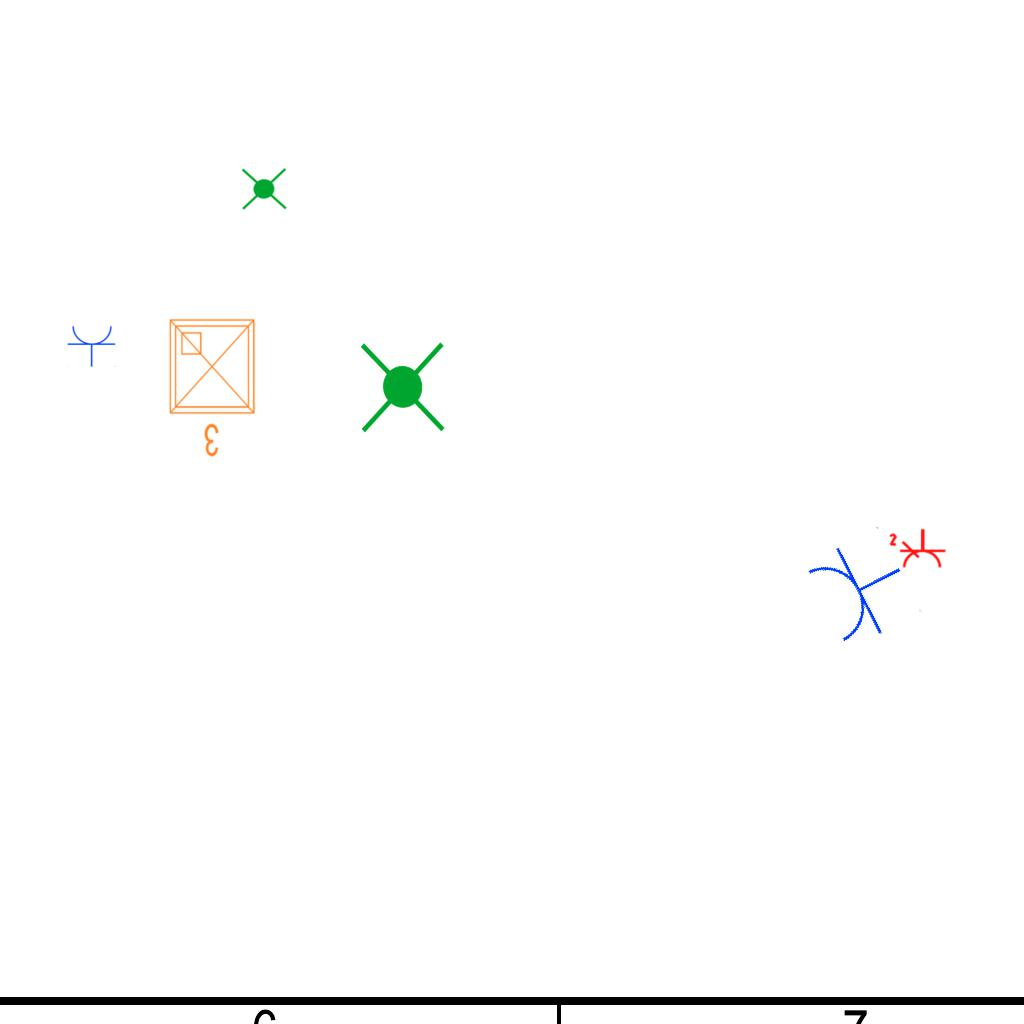Einbaudownlights_LED_Konferenzraeume: (162, 312, 266, 462)
Notlichtbaustein_in_Allgemeinbeleuchtug_engebaut_Einbau_(1UG_und_2UG_Aufbauvaria: (350, 337, 453, 437), (239, 164, 289, 215)
Schukosteckdose_einfach: (799, 524, 923, 653), (67, 324, 117, 367)
Schukosteckdose_mehrfach: (888, 526, 948, 570)
